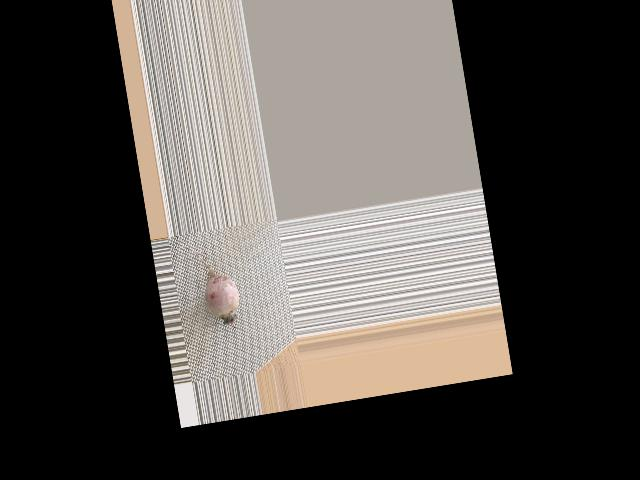beet: (182, 238, 242, 332)
